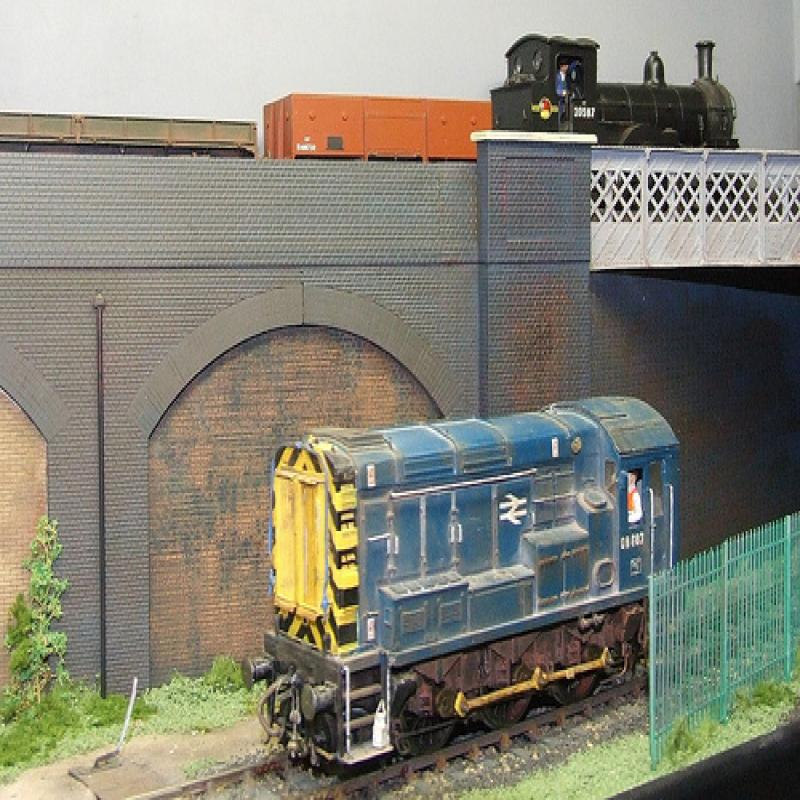train: (239, 393, 681, 781), (3, 32, 744, 160)
